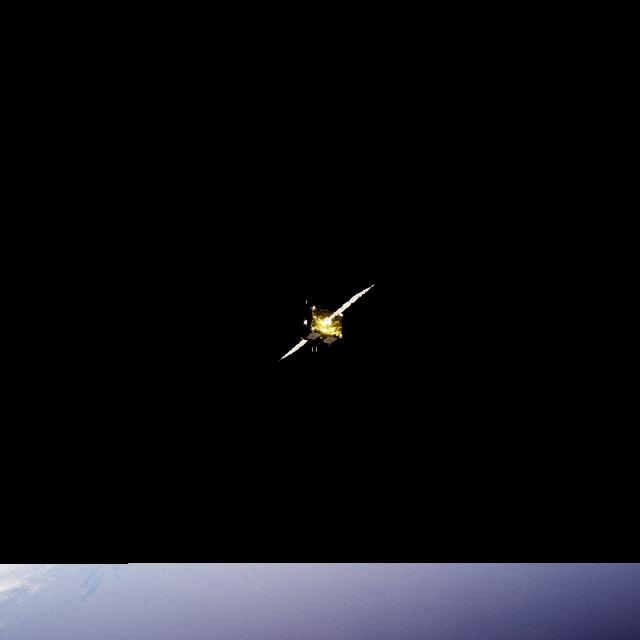medium_debris: (292, 288, 372, 352)
